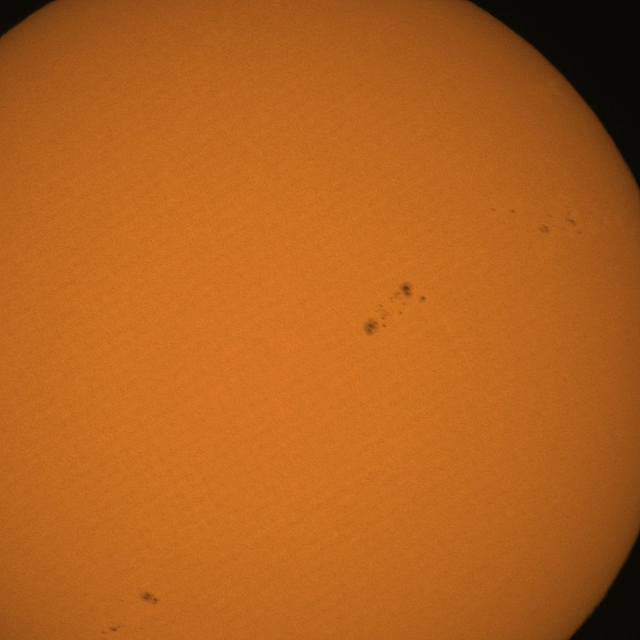sunspot: (362, 299, 398, 337), (386, 283, 424, 317), (100, 621, 122, 636), (139, 590, 159, 606), (540, 223, 550, 235), (419, 294, 428, 304), (510, 209, 516, 215), (576, 230, 582, 236)
